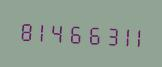eight: (17, 16, 32, 44)
four: (49, 18, 64, 46)
one: (33, 17, 48, 45), (113, 21, 128, 49), (129, 22, 144, 50)
six: (65, 19, 80, 46), (81, 20, 96, 47)
three: (97, 20, 112, 48)
